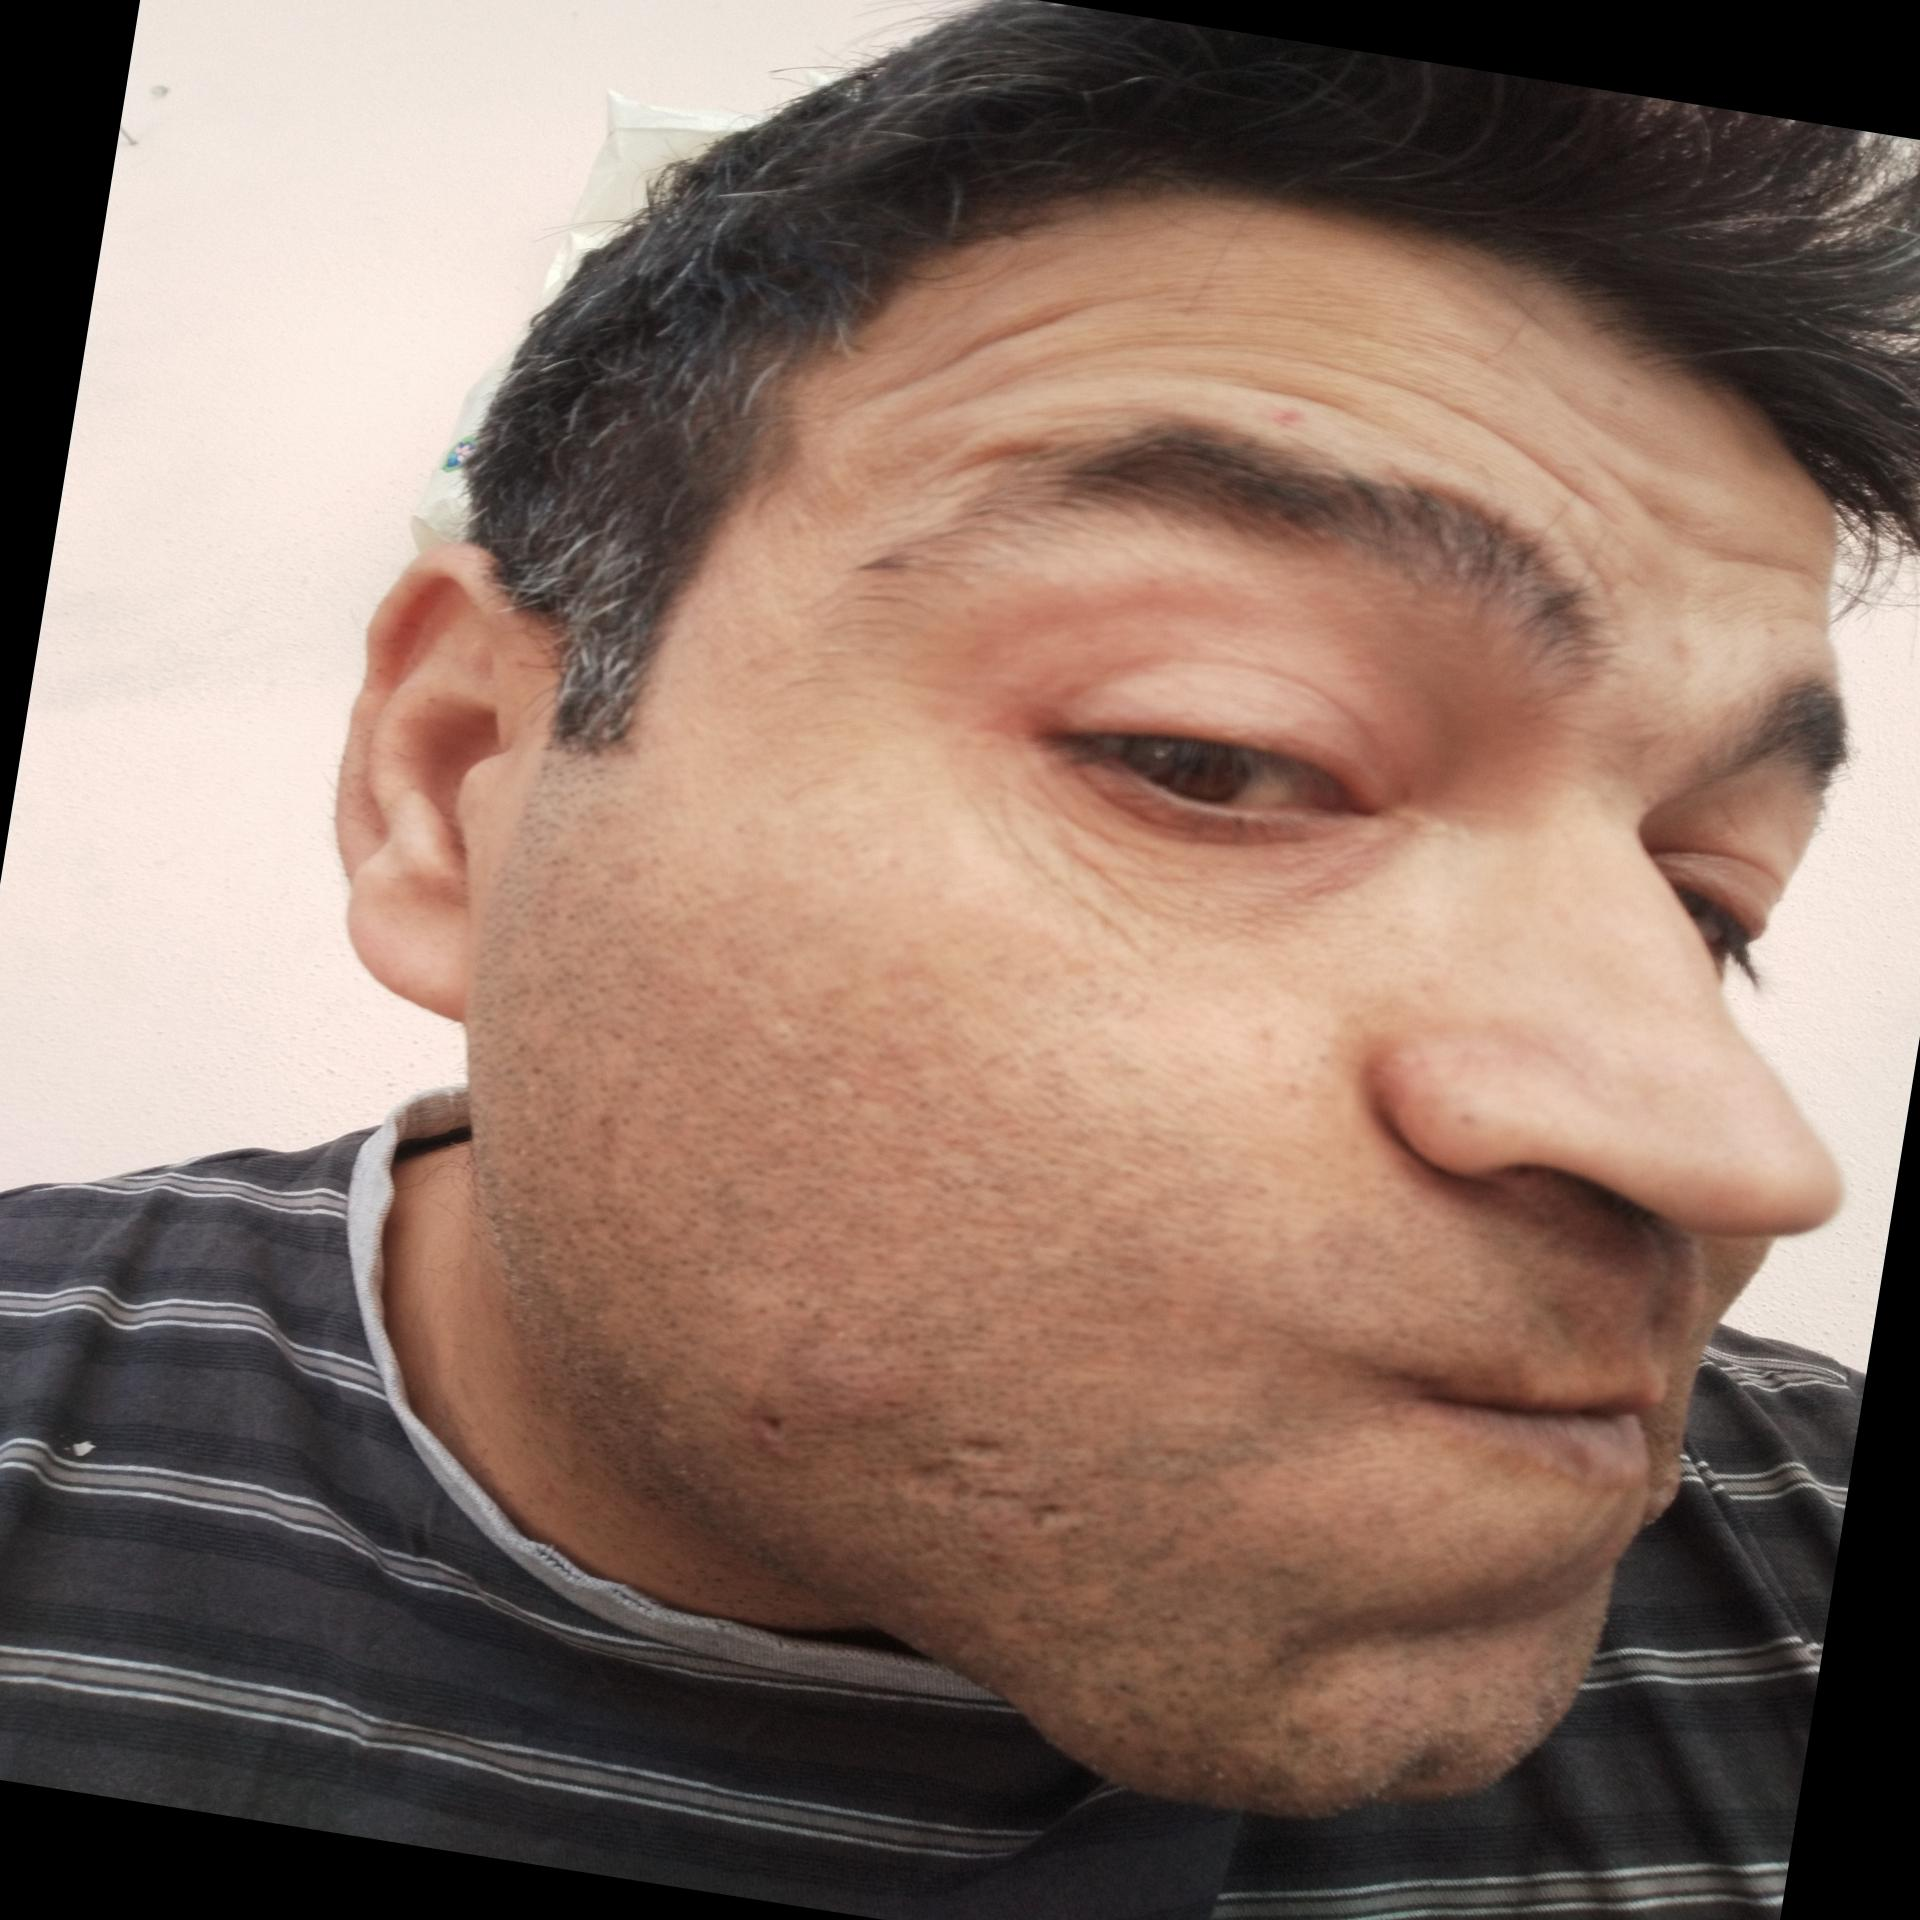Acne: (883, 1410, 1118, 1563), (1255, 389, 1329, 440)
Blackhead: (1217, 1000, 1363, 1125)
Dark Circles: (986, 751, 1449, 948)
Wrinkles: (965, 791, 1333, 990), (819, 239, 1152, 452), (1122, 325, 1463, 434), (916, 371, 1129, 526), (1591, 475, 1839, 577), (1442, 404, 1621, 506), (1538, 519, 1647, 615)
